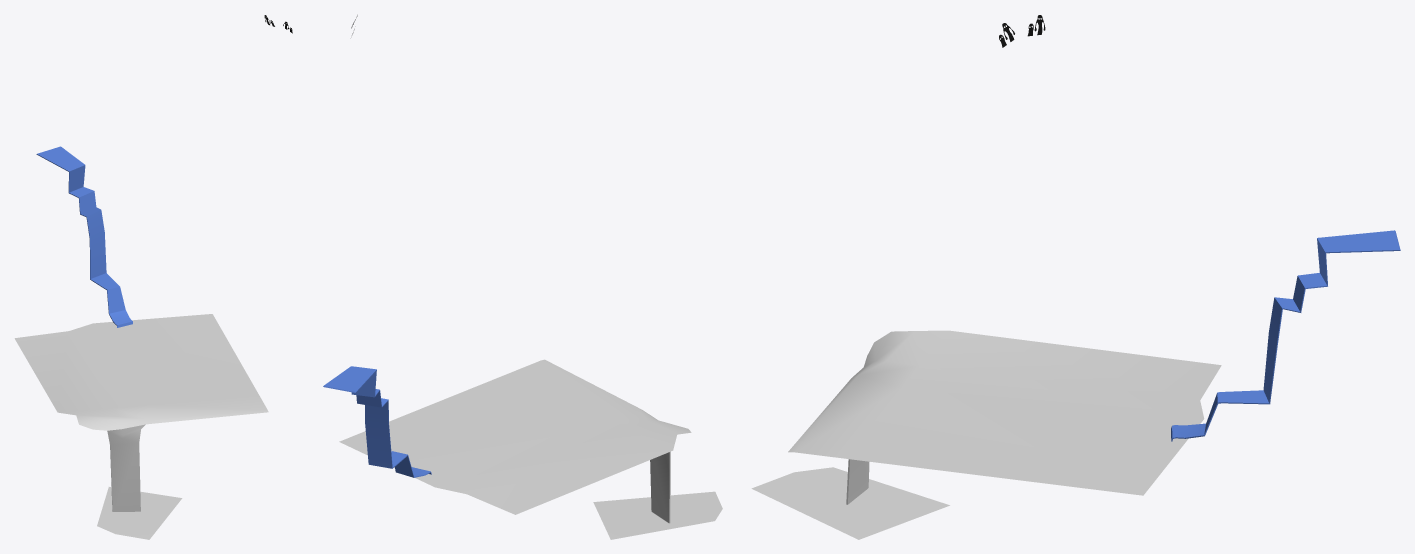
Rendered from slatemines3.1.fbx.
3 views of the same model, side by side, from view 1: azimuth 30°, elevation 25°; view 2: azimuth 150°, elevation 25°; view 3: azimuth 270°, elevation 25° (orthographic). The views are drawn at different scales.
Visible parts, largest first — view 1: SMWater, SMWaterfall, SMWater.001; view 2: SMWater, SMWaterfall, SMWater.001; view 3: SMWater, SMWaterfall, SMWater.001.
Boxes of the visible parts, x1=… form: SMWater: x1=14, y1=314, x2=268, y2=539; SMWaterfall: x1=36, y1=146, x2=132, y2=327; SMWater.001: x1=107, y1=424, x2=145, y2=511; SMWater: x1=339, y1=359, x2=722, y2=539; SMWaterfall: x1=323, y1=366, x2=431, y2=477; SMWater.001: x1=650, y1=451, x2=670, y2=523; SMWater: x1=751, y1=330, x2=1221, y2=539; SMWaterfall: x1=1171, y1=230, x2=1400, y2=441; SMWater.001: x1=846, y1=459, x2=869, y2=504.
Size of the model in its own units: 31644 by 48986 by 45264.
